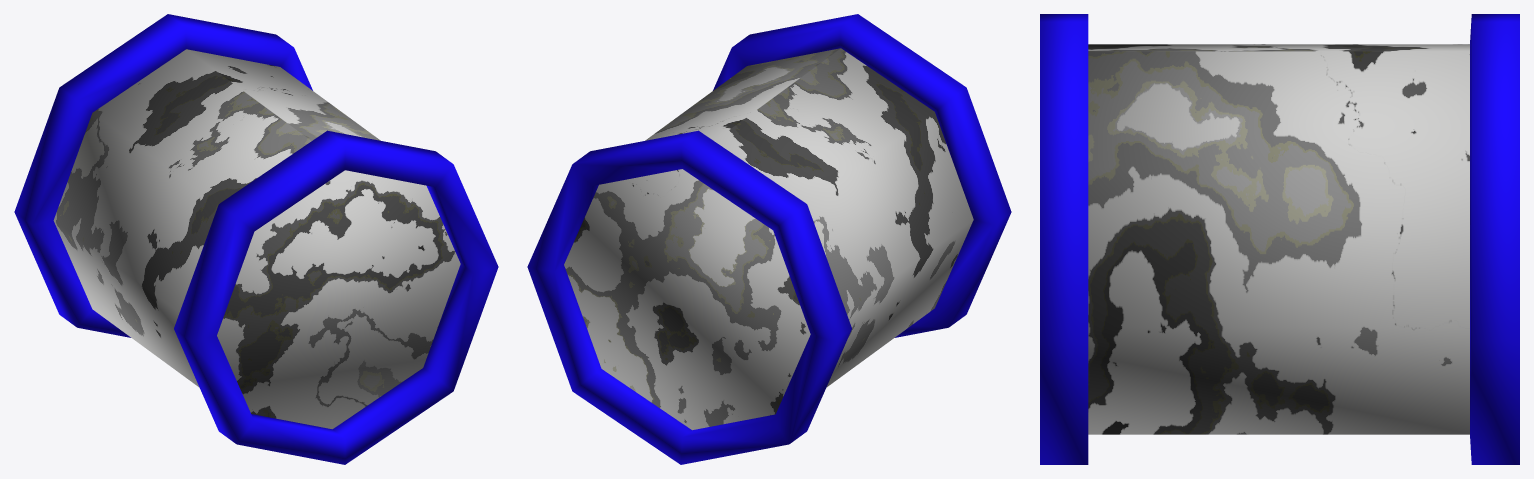
Rendered from EnemyBossShield.fbx.
3 renders of one model, left to right at view 1: azimuth 30°, elevation 25°; view 2: azimuth 150°, elevation 25°; view 3: azimuth 270°, elevation 25°, orthographic. The views are drawn at different scales.
Parts seen in each view (by area): view 1: 円柱; view 2: 円柱; view 3: 円柱.
Part boxes in pixels (x1,y1,x2,y2): 円柱: (14,14,498,464); 円柱: (527,14,1011,464); 円柱: (1040,14,1519,464).
Bounding box in the file's own units: 14.01 × 14.01 × 14.01.
